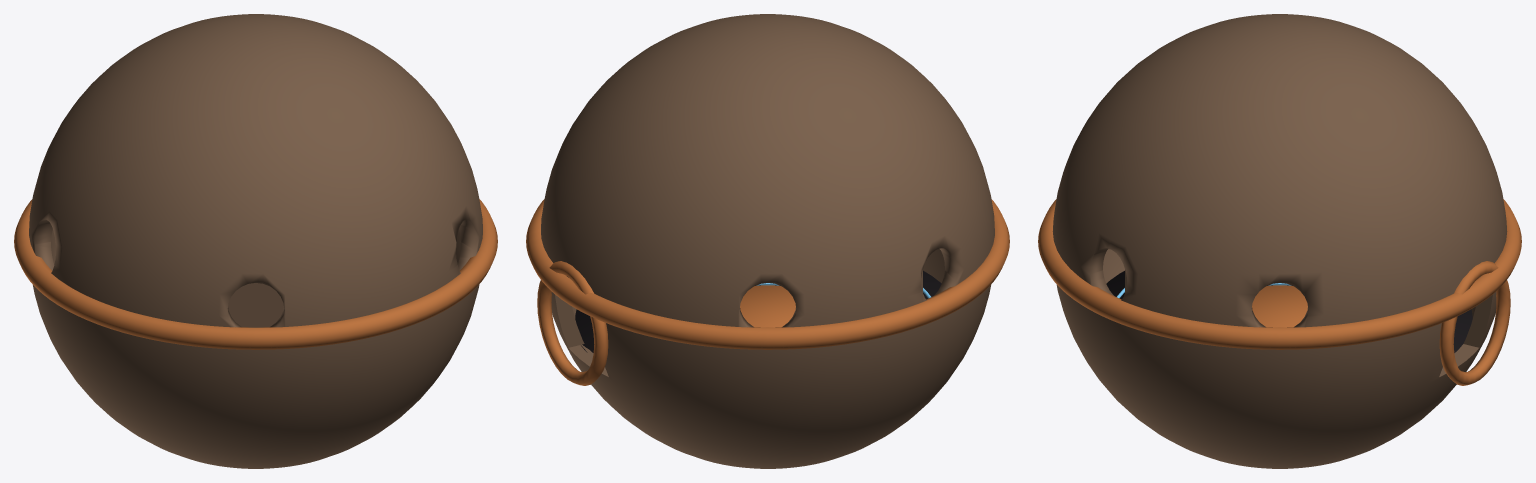
File: modul_kontrolle.obj
3 renders of one model, left to right at view 1: azimuth 30°, elevation 25°; view 2: azimuth 150°, elevation 25°; view 3: azimuth 270°, elevation 25°, orthographic.
Parts seen in each view (by area): view 1: Modul_kontrolle; view 2: Modul_kontrolle; view 3: Modul_kontrolle.
Boxes of the visible parts, x1,y1,x2,y2 form: Modul_kontrolle: [14, 14, 497, 468]; Modul_kontrolle: [526, 14, 1009, 468]; Modul_kontrolle: [1038, 14, 1521, 468].
Size of the model in its own units: 20.4 by 19.2 by 20.4.
